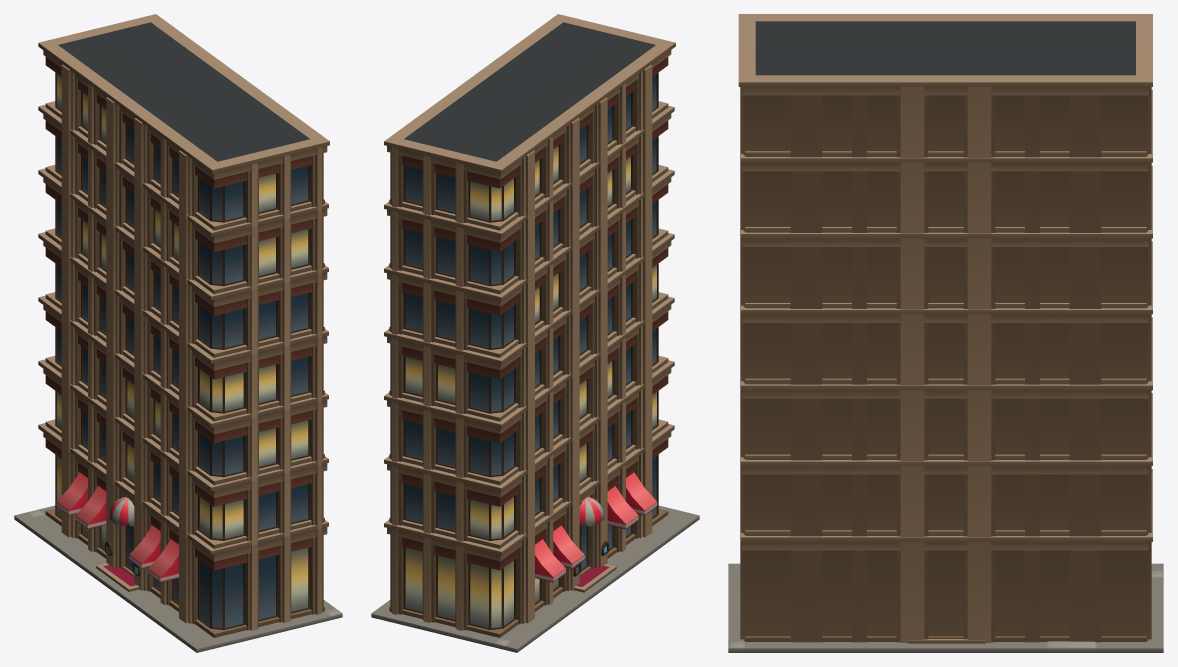
Rendered from Building_21A.fbx.
3 renders of one model, left to right at view 1: azimuth 30°, elevation 25°; view 2: azimuth 150°, elevation 25°; view 3: azimuth 270°, elevation 25°, orthographic. The views are drawn at different scales.
Parts seen in each view (by area): view 1: Building_21A, Window_Lights_21A, Canopy_21A; view 2: Building_21A, Window_Lights_21A, Canopy_21A; view 3: Building_21A.
Boxes of the visible parts, left/top/right/bottom form: Building_21A: left=14, top=14, right=342, bottom=652; Window_Lights_21A: left=57, top=74, right=308, bottom=611; Canopy_21A: left=56, top=472, right=178, bottom=582; Building_21A: left=371, top=14, right=699, bottom=652; Window_Lights_21A: left=405, top=146, right=656, bottom=627; Canopy_21A: left=535, top=472, right=657, bottom=582; Building_21A: left=728, top=14, right=1163, bottom=652.
Bounding box in the file's own units: 1200 × 3730 × 2600.
